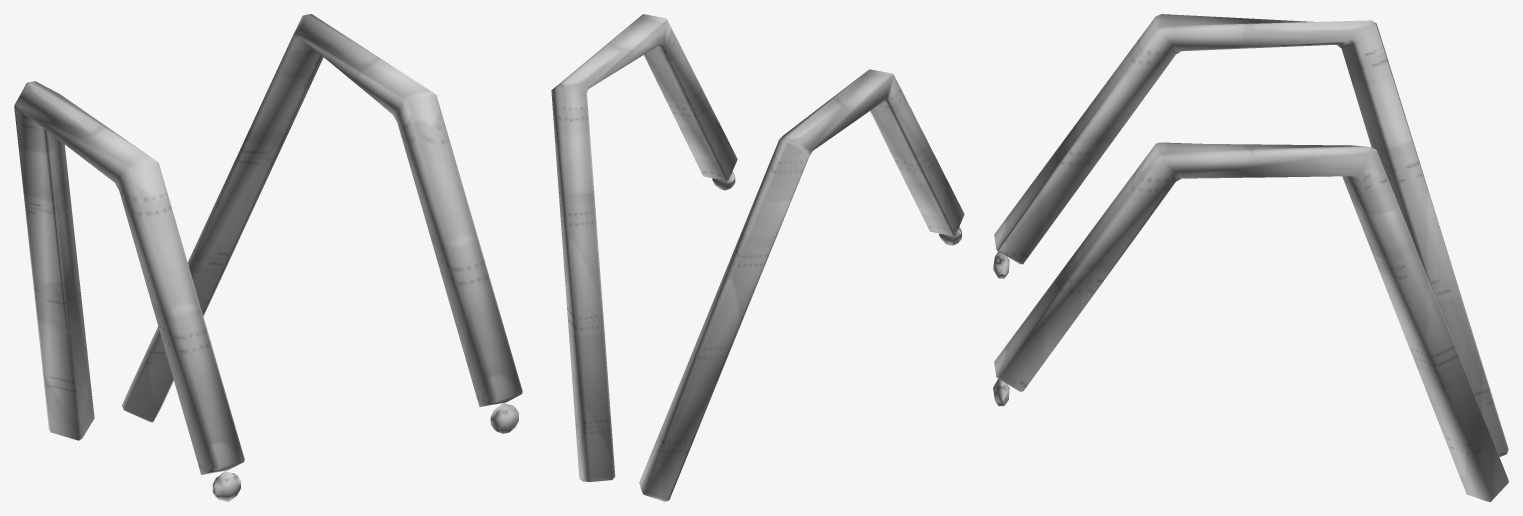
The model's file is UpperTorso_C2.fbx.
3 views of the same model, side by side, from view 1: azimuth 30°, elevation 25°; view 2: azimuth 150°, elevation 25°; view 3: azimuth 270°, elevation 25° (orthographic). The views are drawn at different scales.
Visible parts, largest first — view 1: Civ_Mameluco_UpperTorso_C2; view 2: Civ_Mameluco_UpperTorso_C2; view 3: Civ_Mameluco_UpperTorso_C2.
Boxes of the visible parts, x1,y1,x2,y2 form: Civ_Mameluco_UpperTorso_C2: (14, 14, 522, 501); Civ_Mameluco_UpperTorso_C2: (551, 14, 964, 501); Civ_Mameluco_UpperTorso_C2: (993, 14, 1508, 501).
Bounding box in the file's own units: 0.9959 × 1.27 × 1.5.
